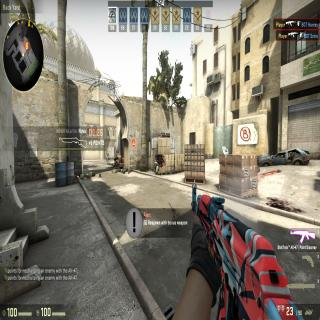CT-Body: (105, 149, 108, 163)
CT-Head: (106, 150, 108, 152)
